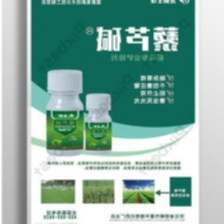insecticide: (44, 66, 85, 158), (82, 91, 113, 156)
